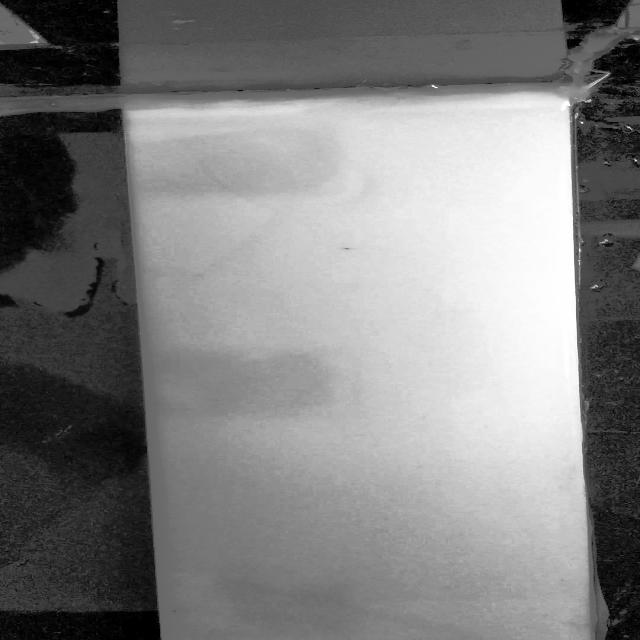shrimp: (168, 605, 184, 620)
